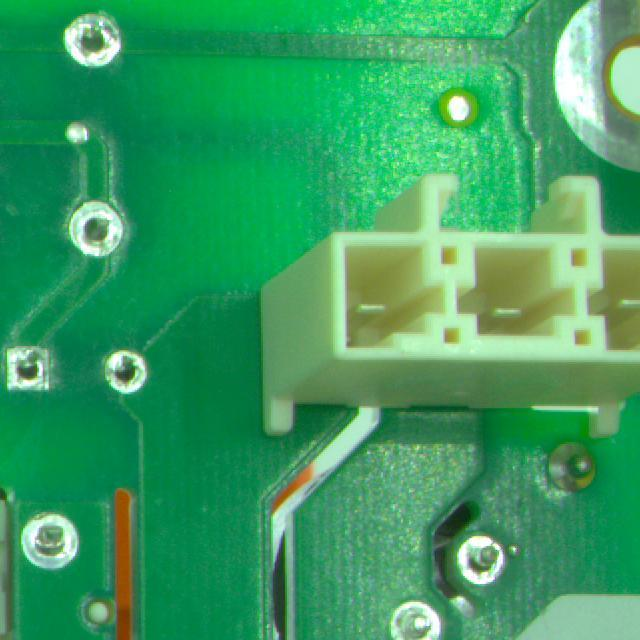oppostie_direction: (23, 513, 79, 569), (64, 14, 121, 67), (70, 202, 123, 256), (456, 535, 506, 584), (549, 442, 595, 492), (390, 601, 441, 640), (6, 346, 49, 391), (105, 350, 146, 393)
